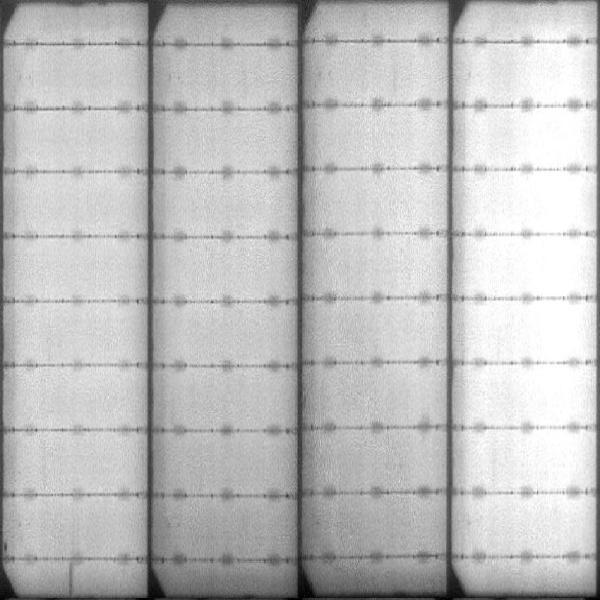hot_spot: (513, 244, 585, 291), (523, 309, 585, 356), (529, 110, 581, 163), (530, 179, 582, 226), (526, 372, 573, 422), (535, 434, 577, 468)
scratch: (64, 562, 77, 597)
